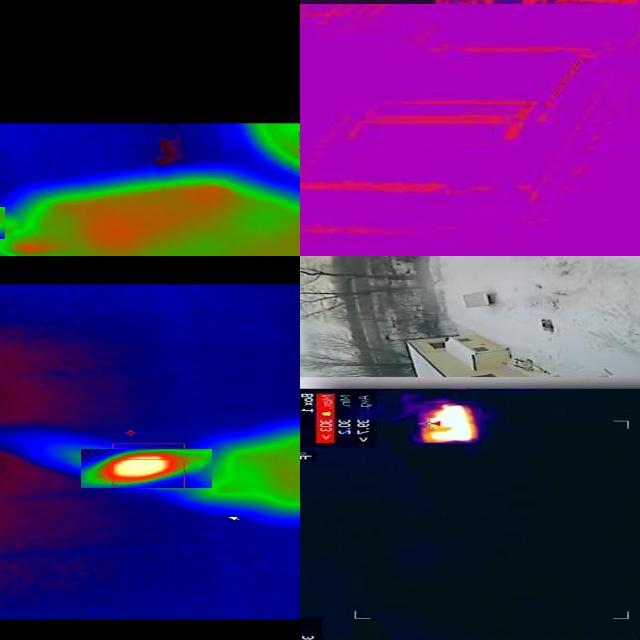fire: (81, 450, 212, 489), (417, 404, 479, 444)
